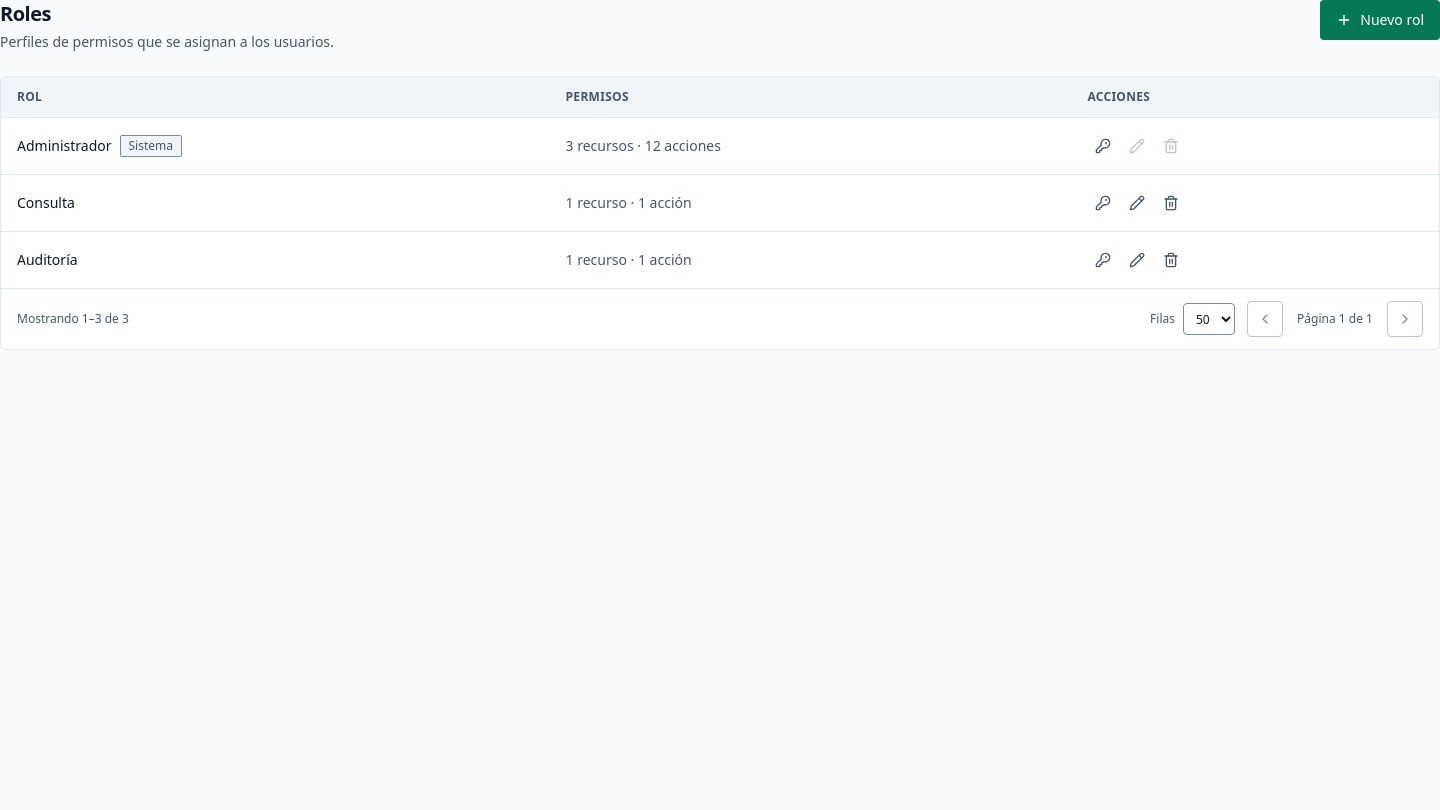
Test: RolesPage · vista de árbol › alterna entre tabla y árbol conservando la selección
This screenshot has width=1440, height=810.
Expected: the cell "Consulta" is shown, [1,174,550,232]
Click the button named "Ver permisos de Consulta": (1103, 203) [1087,187,1119,219]
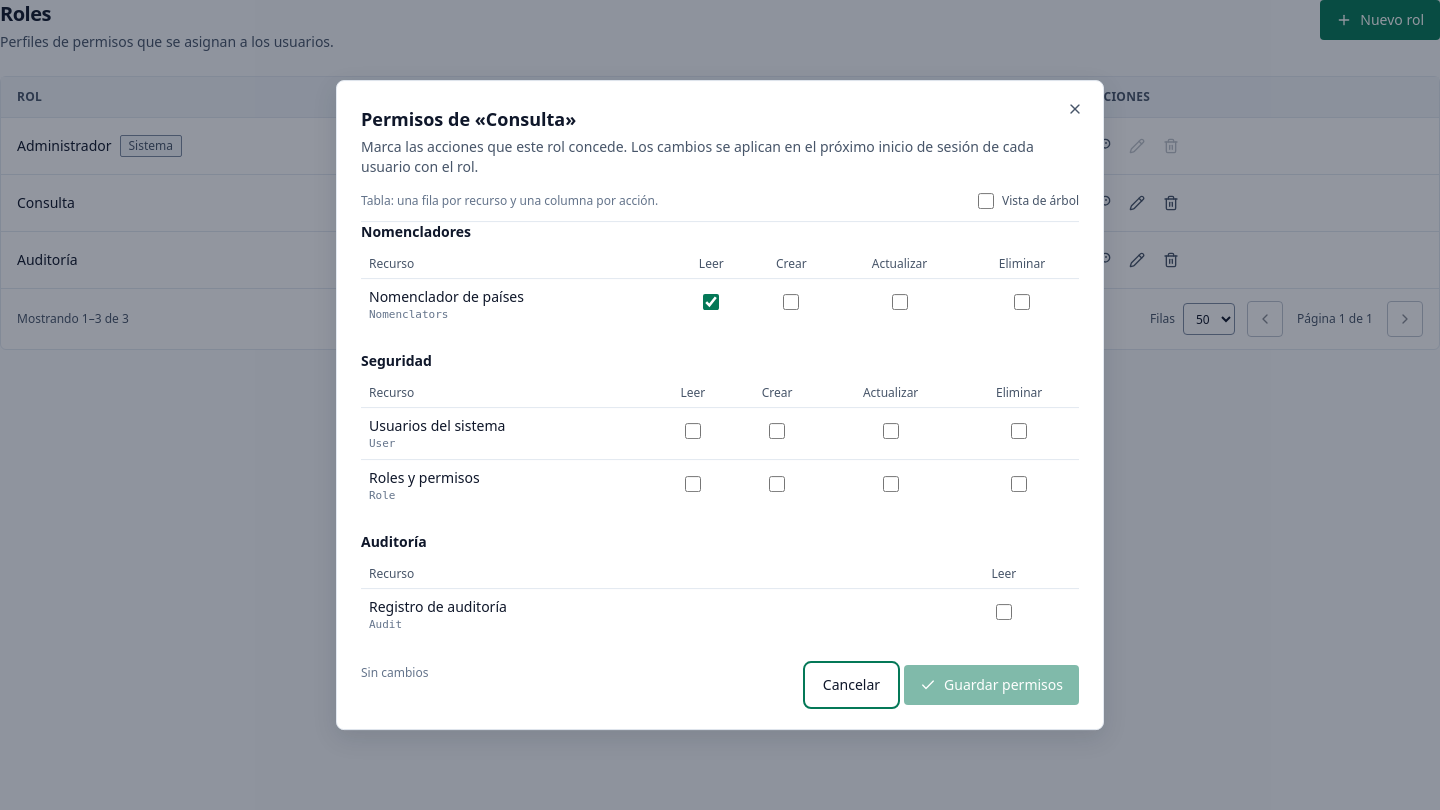
Expected: the checkbox named "Leer en Nomenclador de países" is checked, [703,294,719,310]
Expected: the checkbox labelled "Vista de árbol" is not checked
Click the checkbox labelled "Vista de árbol": (986, 201) [978,193,994,209]
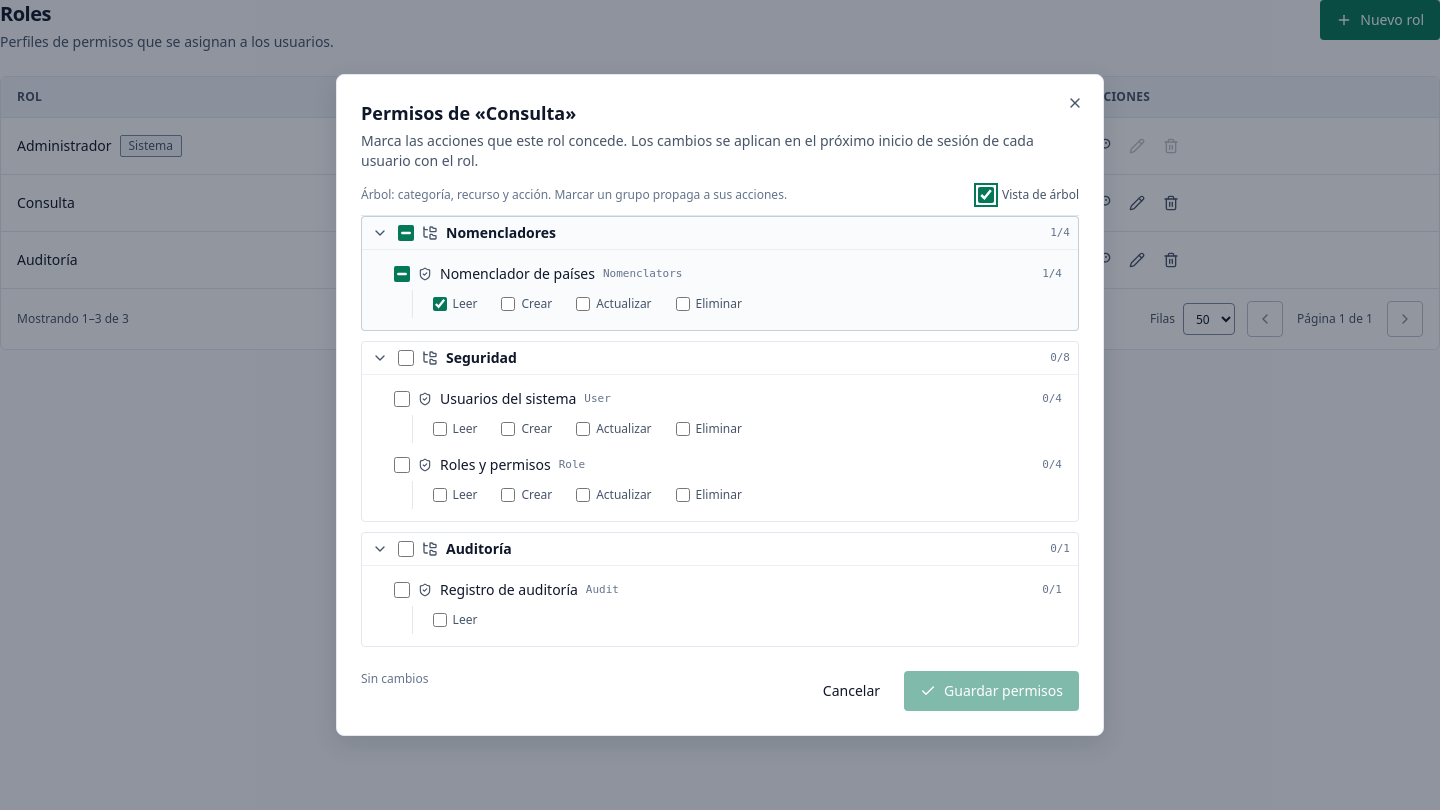
Expected: the checkbox named "Leer en Nomenclador de países (Nomencladores)" is checked, [433,297,447,311]
